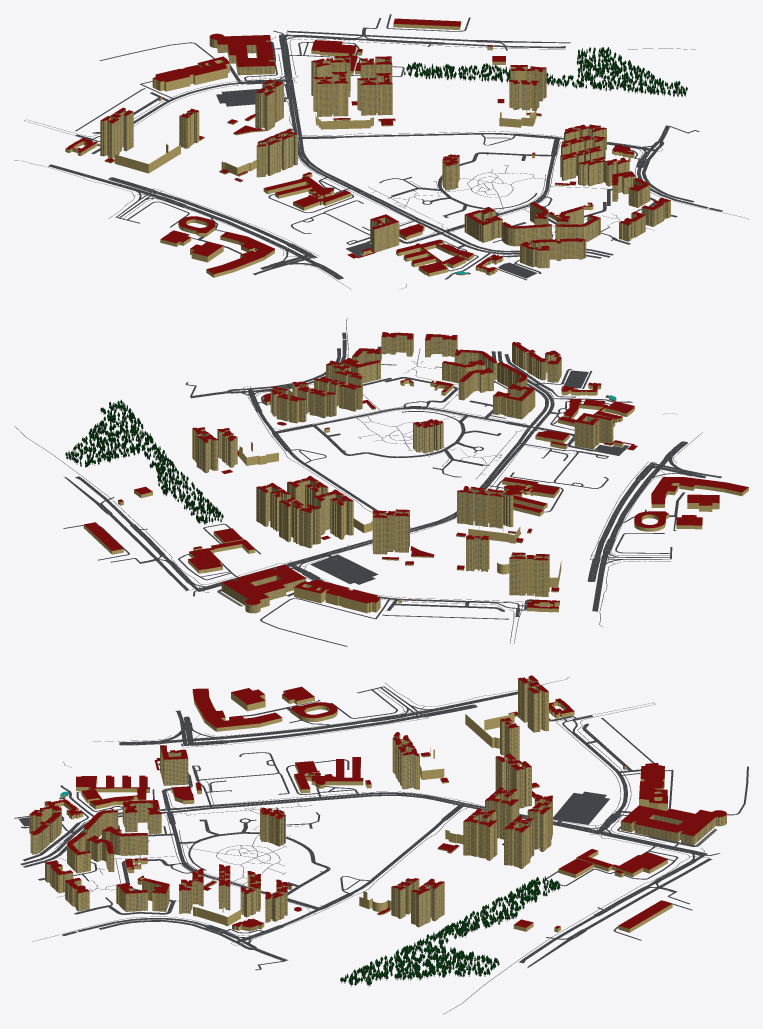
The model's file is osm3d.glb.
3 views of the same model, one above another, from view 1: azimuth 30°, elevation 25°; view 2: azimuth 150°, elevation 25°; view 3: azimuth 270°, elevation 25° (orthographic). The views are drawn at different scales.
Visible parts, largest first — view 1: Plaster002, ASPHALT, RoofingTiles010, Windows, TextureAtlas 6c6e4c73; view 2: Plaster002, ASPHALT, RoofingTiles010, Windows, TextureAtlas 6c6e4c73; view 3: Plaster002, ASPHALT, RoofingTiles010, Windows, TextureAtlas 6c6e4c73.
Part boxes in pixels (box(x1,y1,x2,y2)): Plaster002: box(65, 22, 670, 277); ASPHALT: box(14, 14, 748, 280); RoofingTiles010: box(66, 18, 670, 274); Windows: box(100, 40, 669, 274); TextureAtlas 6c6e4c73: box(404, 47, 687, 96); Plaster002: box(83, 333, 748, 613); ASPHALT: box(14, 318, 721, 646); RoofingTiles010: box(84, 332, 748, 608); Windows: box(193, 335, 614, 612); TextureAtlas 6c6e4c73: box(65, 400, 223, 524); Plaster002: box(29, 678, 726, 932); ASPHALT: box(14, 676, 748, 1014); RoofingTiles010: box(30, 675, 726, 928); Windows: box(30, 677, 725, 926); TextureAtlas 6c6e4c73: box(340, 876, 560, 986).
Bounding box in the file's own units: 1392 × 75.02 × 1280.
Materials: 17 (17 with a texture image).
